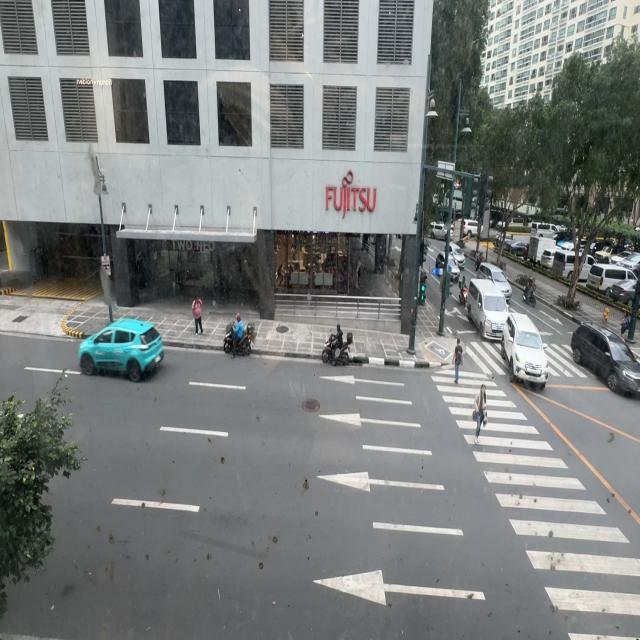crossing: (474, 383, 488, 442), (454, 338, 464, 383)
pedestrain: (191, 296, 203, 335), (356, 258, 362, 290)
waiting: (619, 307, 629, 352)
